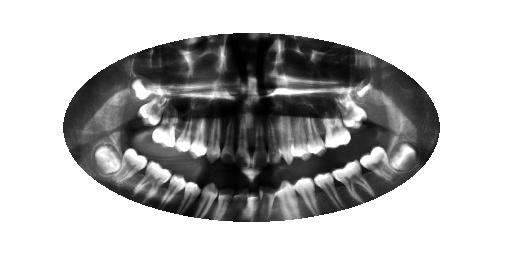i10decay: (212, 179, 235, 223)
i11healthy: (191, 180, 220, 220)
i13healthy: (159, 167, 190, 214)
i14healthy: (131, 153, 174, 207)
i15healthy: (113, 143, 151, 188)
i16healthy: (88, 136, 124, 182)
i1healthy: (385, 137, 422, 175)
i2healthy: (356, 142, 401, 184), (174, 168, 202, 218)
i3healthy: (328, 160, 377, 202)
i4healthy: (312, 163, 348, 212)
i5healthy: (292, 169, 321, 217)
i6healthy: (271, 174, 299, 220)
i7decay: (257, 183, 278, 222)
i8chipped: (240, 186, 262, 222)
i9decay: (224, 183, 250, 222)
u10decay: (220, 111, 234, 165)
u11healthy: (205, 106, 224, 168)
u12healthy: (188, 111, 207, 165)
u13healthy: (175, 108, 195, 160)
u14healthy: (145, 104, 182, 154)
u15healthy: (137, 84, 170, 129)
u16healthy: (125, 71, 159, 106)
u1healthy: (350, 68, 378, 106)
u2decay: (332, 89, 367, 134)
u3healthy: (318, 104, 353, 154)
u4healthy: (301, 110, 329, 163)
u5healthy: (287, 111, 311, 163)
u6healthy: (275, 107, 294, 168)
u7decay: (264, 110, 283, 171)
u8healthy: (247, 115, 269, 172)
u9decay: (234, 112, 251, 172)
